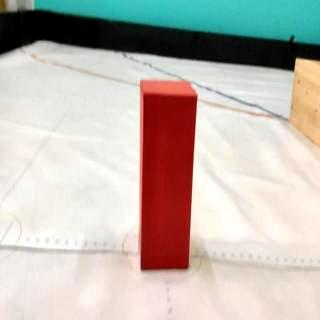redbox: (140, 77, 198, 270)
